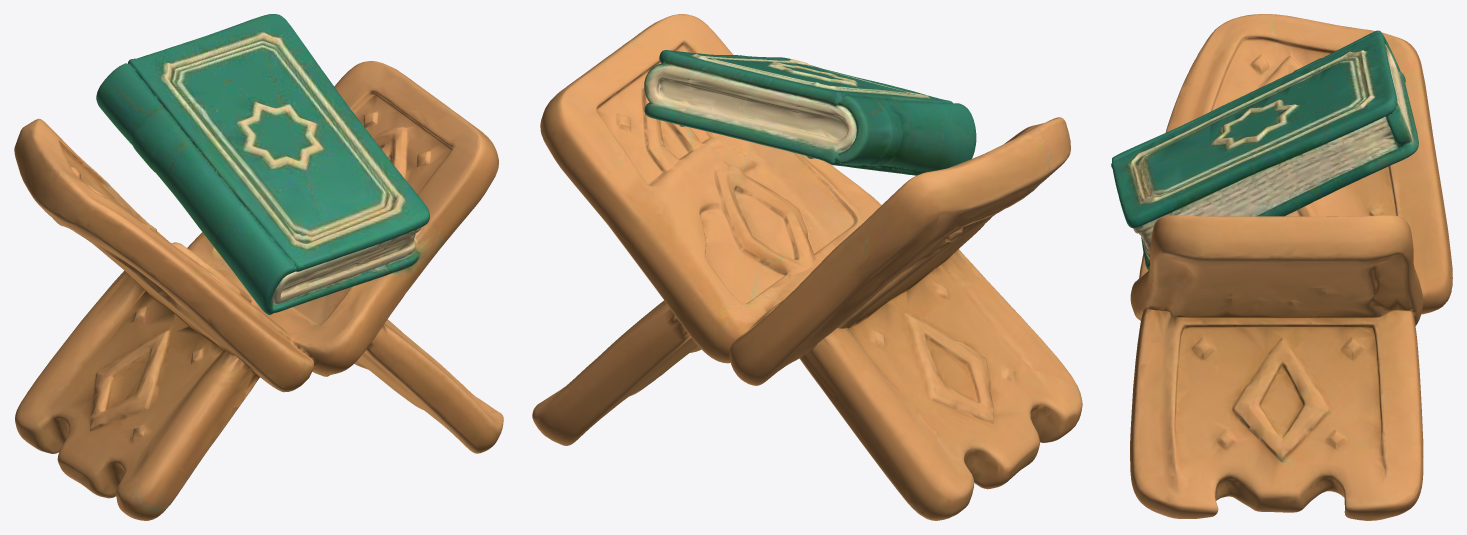
Rendered from rehal-quran-variant-01-closed-teal-classic.glb.
3 renders of one model, left to right at view 1: azimuth 30°, elevation 25°; view 2: azimuth 150°, elevation 25°; view 3: azimuth 270°, elevation 25°, orthographic. The views are drawn at different scales.
Parts seen in each view (by area): view 1: mesh_node; view 2: mesh_node; view 3: mesh_node.
Part boxes in pixels (left/top/right/bottom): mesh_node: left=14, top=14, right=503, bottom=520; mesh_node: left=532, top=14, right=1082, bottom=520; mesh_node: left=1111, top=14, right=1452, bottom=520.
Size of the model in its own units: 1.9 by 1.65 by 1.37.
1 material, 1 textured.
